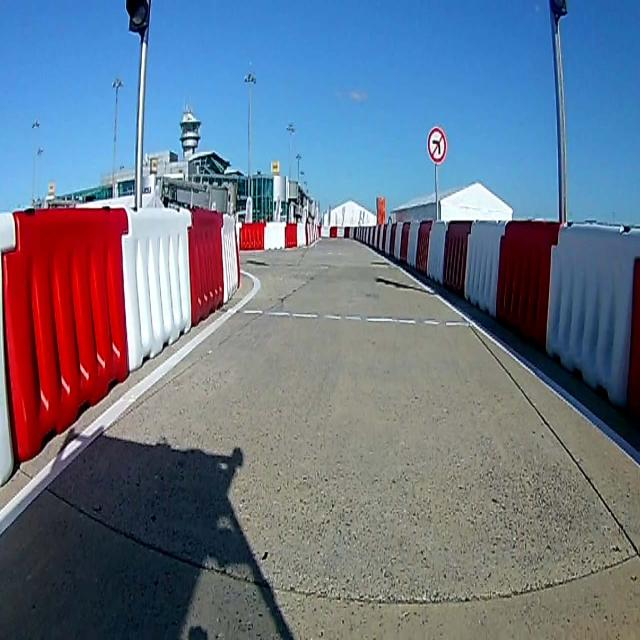soladonulmez: (428, 126, 448, 166)
